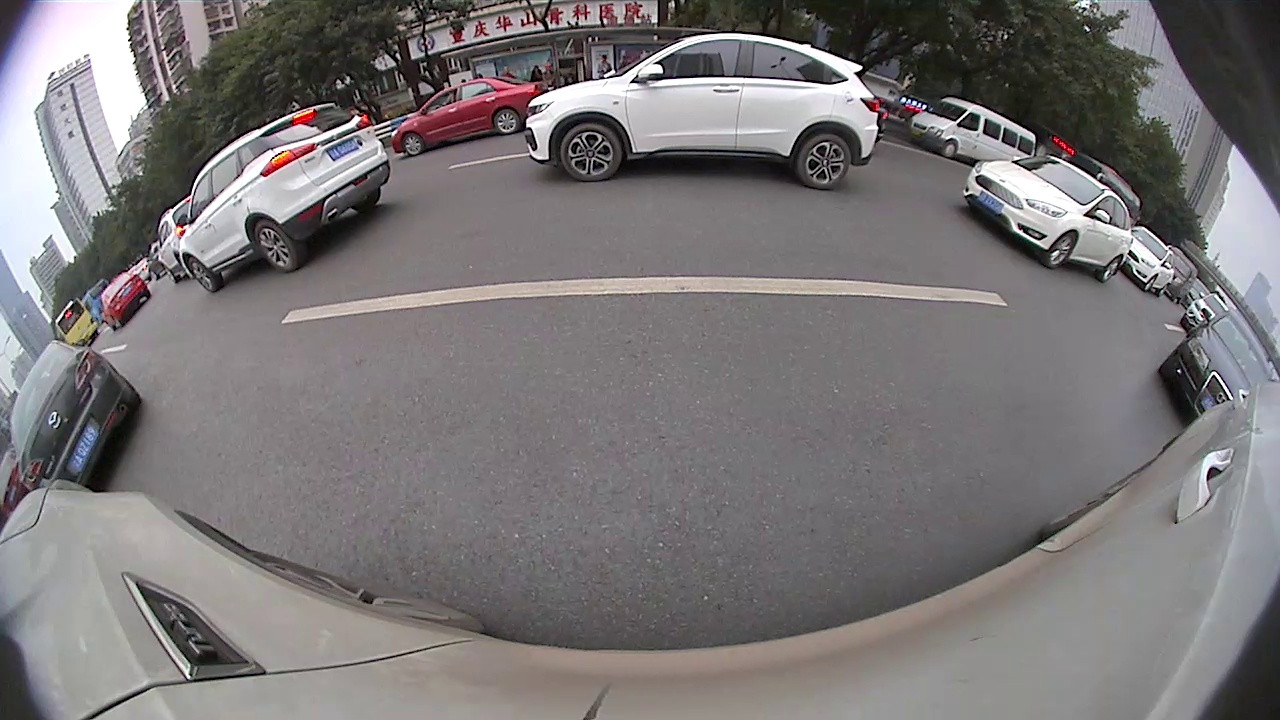car: (524, 34, 884, 189), (175, 103, 393, 293), (963, 153, 1135, 282), (7, 339, 143, 492), (389, 76, 548, 158), (1157, 309, 1270, 423), (907, 98, 1038, 171), (1124, 226, 1175, 297), (97, 271, 150, 334)
front: (560, 123, 623, 182), (186, 256, 223, 293), (1045, 230, 1079, 270), (400, 131, 428, 155), (941, 139, 958, 159), (1142, 273, 1158, 293)
rear: (798, 133, 851, 188), (254, 222, 301, 273), (494, 107, 520, 136), (1101, 255, 1124, 280)
